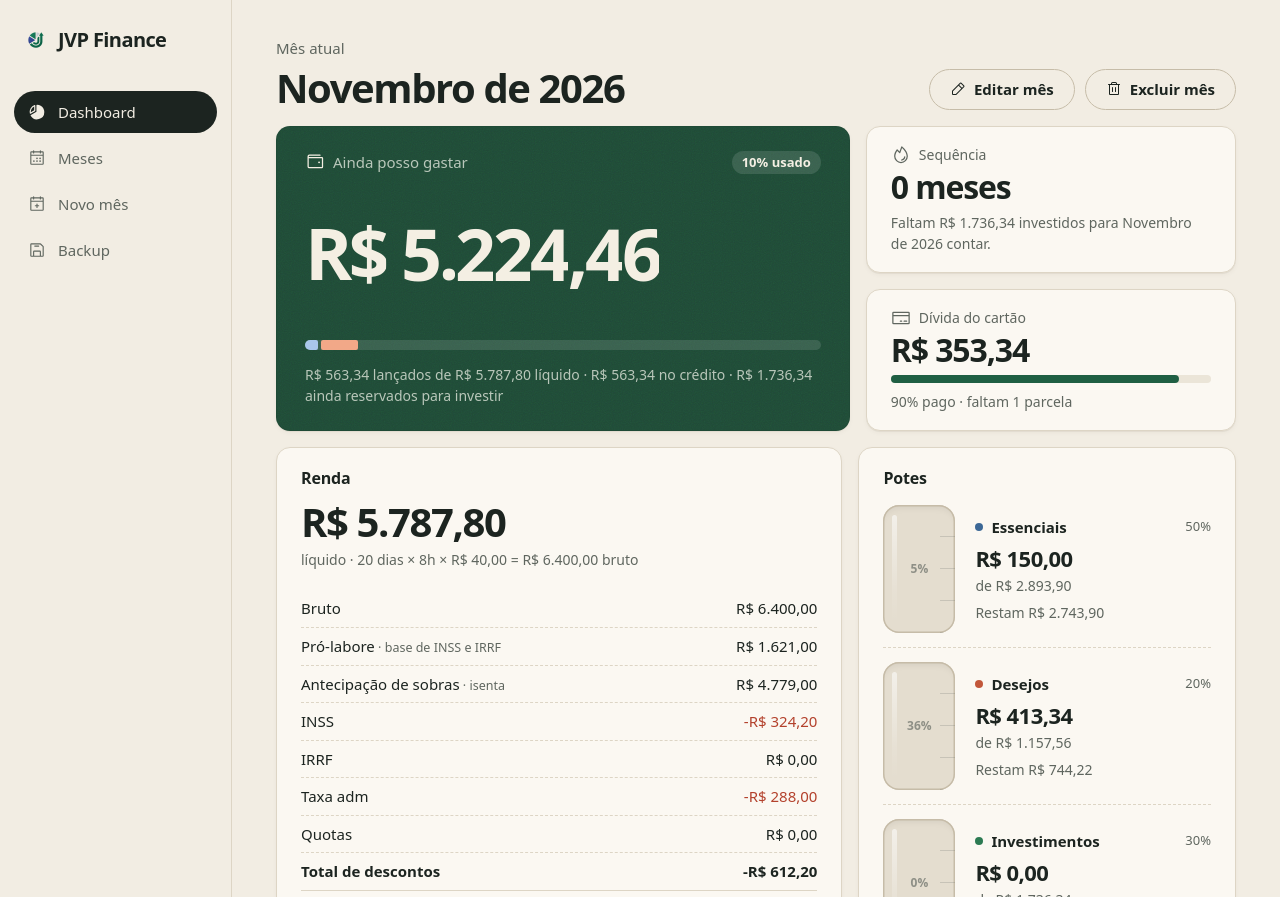
Test case: criar o próximo mês herda fixos e parcelas e pré-preenche os parâmetros
Step 1. Click the button "Novo mês" → (116, 204), box top-left (14, 183), bottom-right (217, 225)
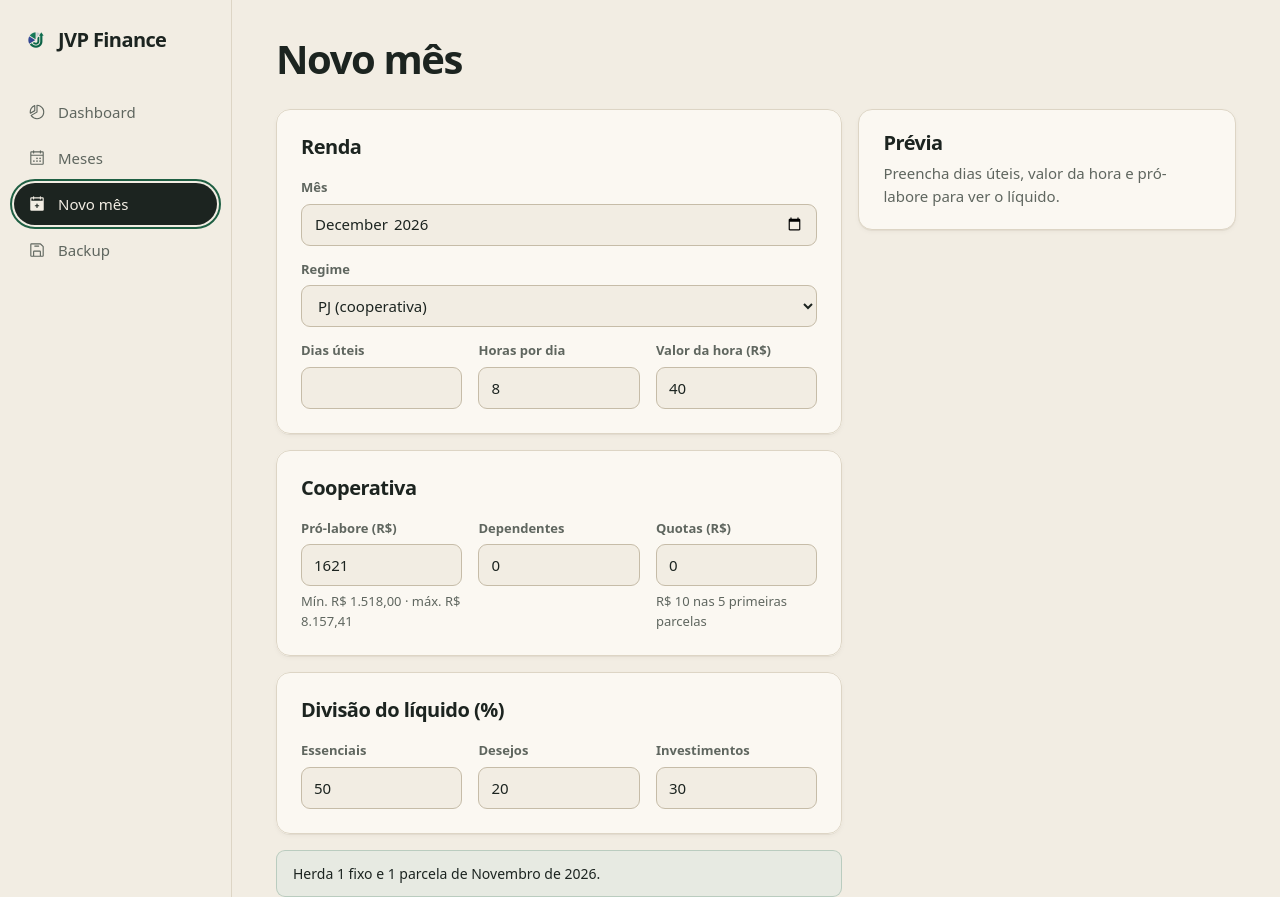
Result: the field labelled "Mês" holds "2026-12" at top-left (301, 204), bottom-right (817, 246)
Result: the number field labelled "Dias úteis" is not empty
Result: the number field labelled "Valor da hora (R$)" holds "40" at top-left (656, 366), bottom-right (817, 408)
Step 2. Type "22" into the number field labelled "Dias úteis" → (382, 388), box top-left (301, 366), bottom-right (462, 408)
(page scrolled)
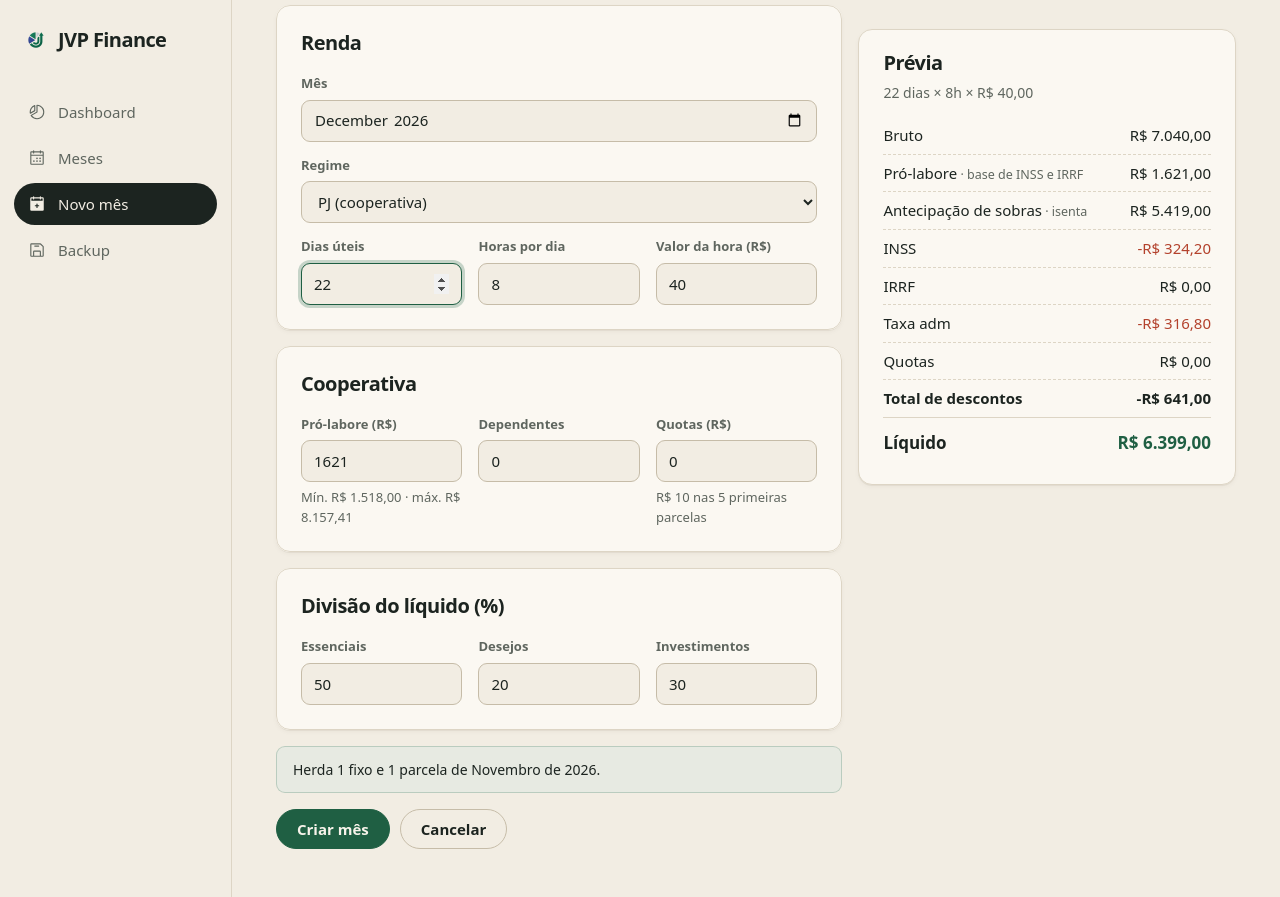
Step 3. Click the button "Criar mês" → (333, 829), box top-left (276, 808), bottom-right (390, 849)
(page scrolled)
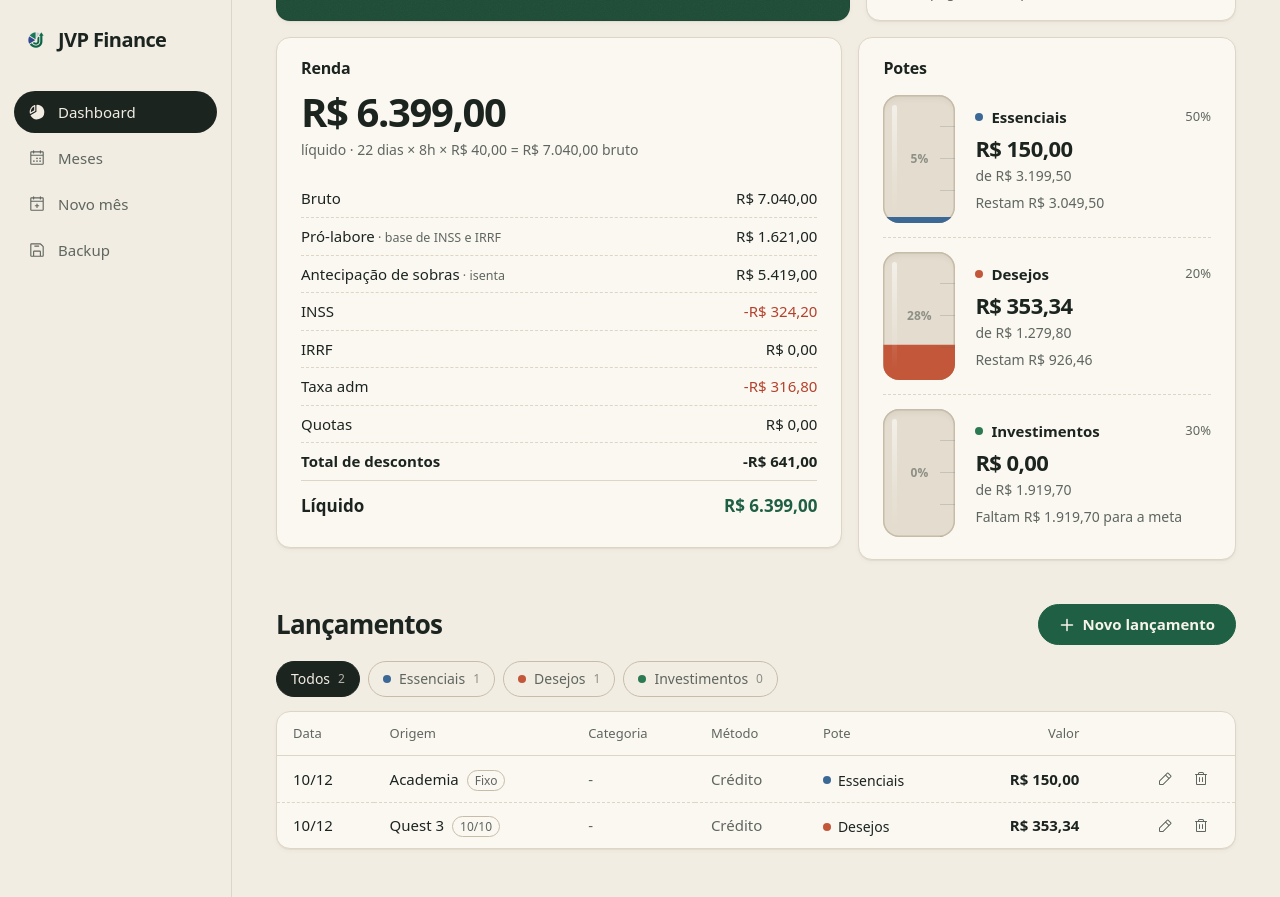
Result: the cell "Academia" is shown at top-left (374, 756), bottom-right (572, 802)
Result: the cell "Quest 310/10" is shown at top-left (374, 802), bottom-right (572, 848)
